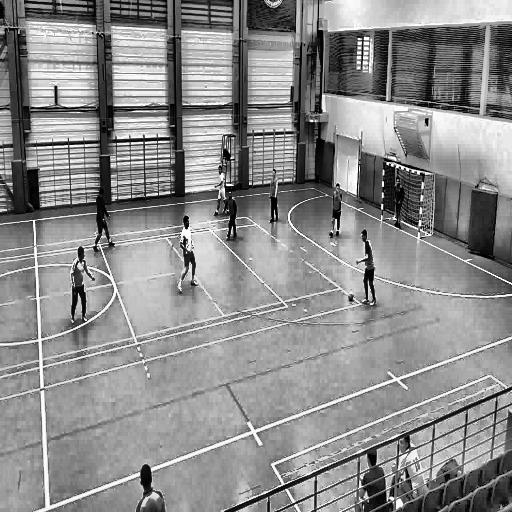ball: (346, 288, 356, 306)
player: (70, 246, 97, 327), (176, 215, 199, 295), (355, 229, 377, 309), (93, 185, 117, 254), (213, 163, 231, 216), (328, 183, 344, 242), (224, 189, 239, 245), (268, 167, 280, 224), (393, 172, 404, 233)
